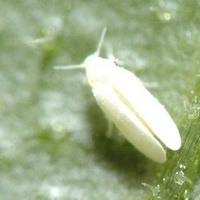insect: (54, 27, 180, 162)
